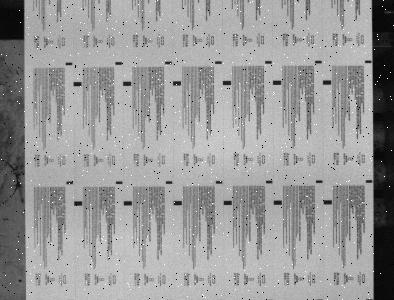qblock: (74, 201, 83, 206), (173, 81, 182, 86), (274, 200, 283, 205), (273, 80, 282, 85), (323, 80, 332, 85), (224, 200, 232, 205), (123, 81, 131, 86), (73, 82, 82, 86), (223, 81, 232, 85), (324, 200, 333, 204), (174, 201, 182, 205), (124, 201, 132, 205)
smallqblock: (265, 60, 273, 64), (216, 180, 223, 184), (65, 62, 73, 65), (365, 60, 373, 63), (115, 62, 122, 65), (165, 61, 172, 64), (215, 61, 222, 64), (315, 60, 322, 63), (66, 181, 73, 184), (116, 181, 123, 184), (266, 180, 273, 183), (166, 181, 173, 184), (316, 180, 323, 183), (366, 180, 373, 183), (366, 298, 373, 300), (116, 299, 124, 300), (266, 299, 274, 300), (216, 299, 224, 300), (166, 299, 174, 300), (67, 299, 74, 300), (316, 299, 323, 300)
